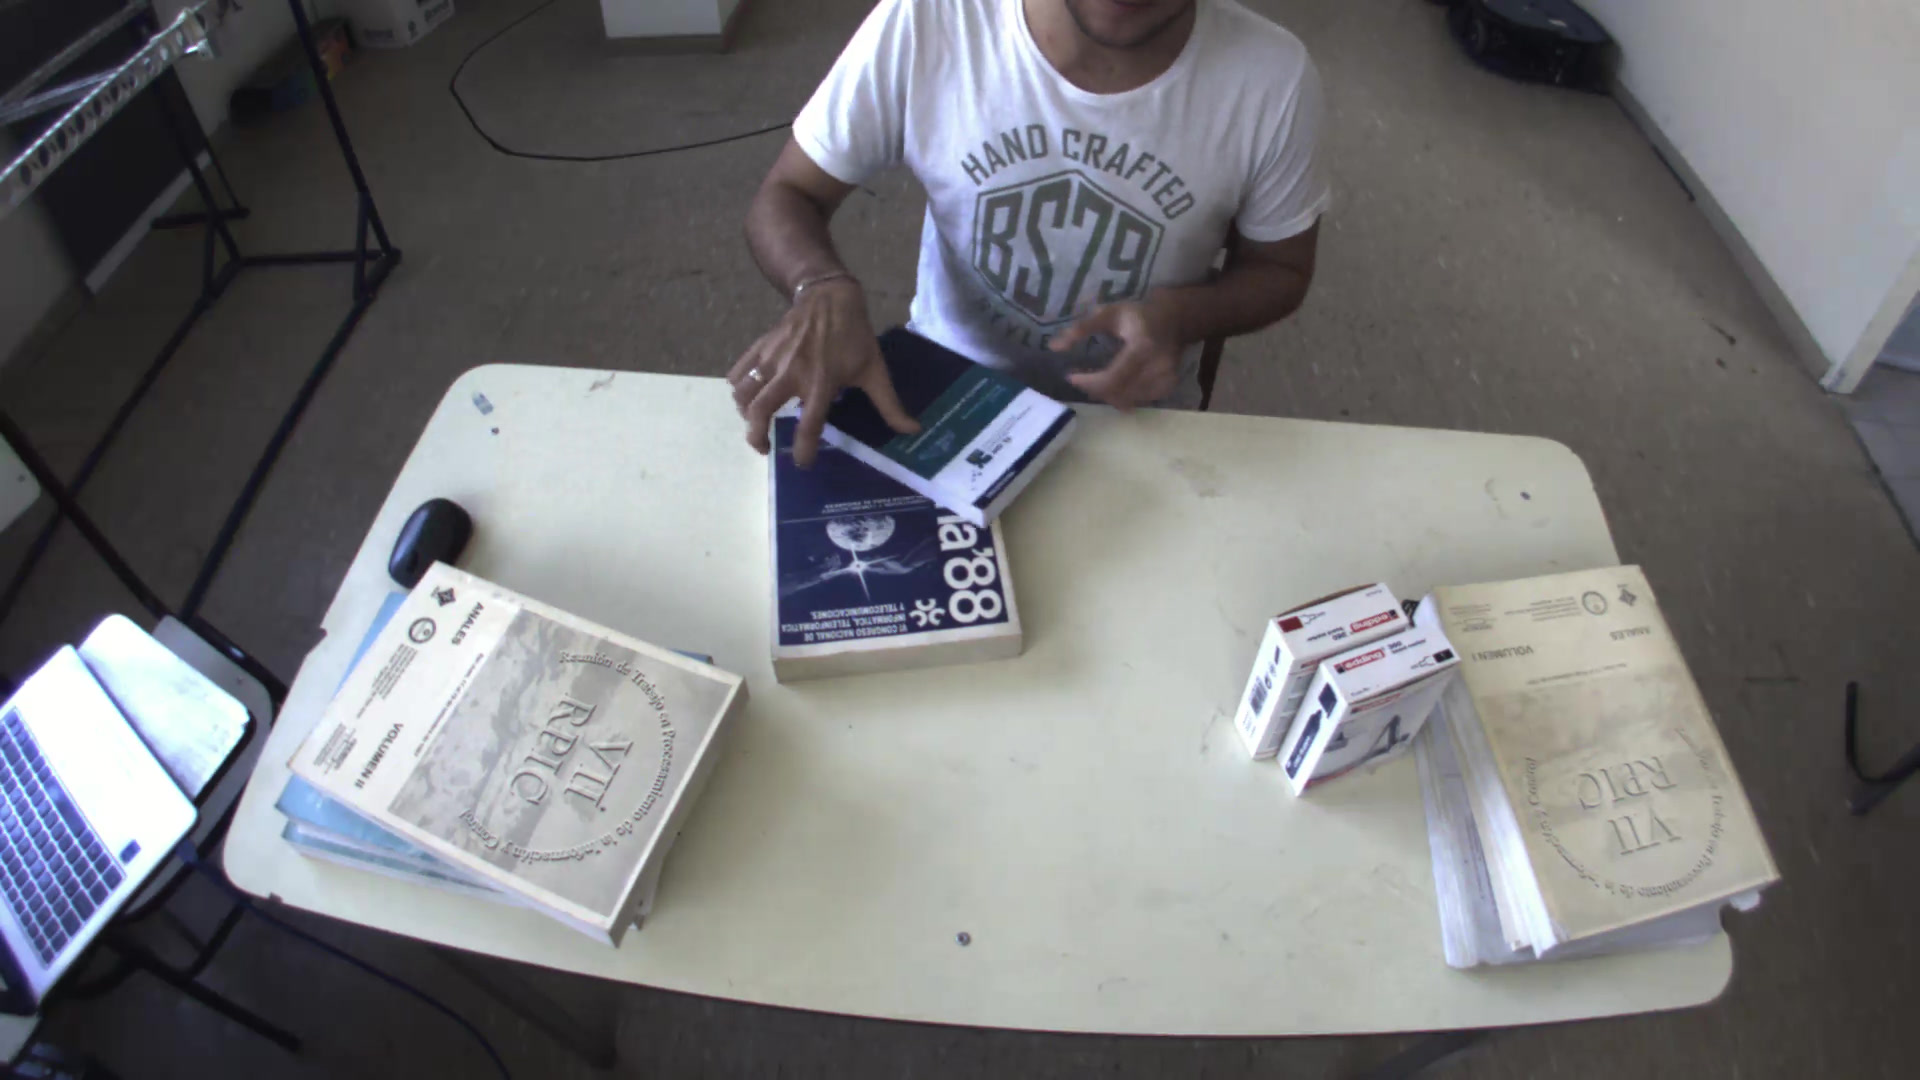hand: (705, 257, 927, 473), (1047, 285, 1188, 411)
